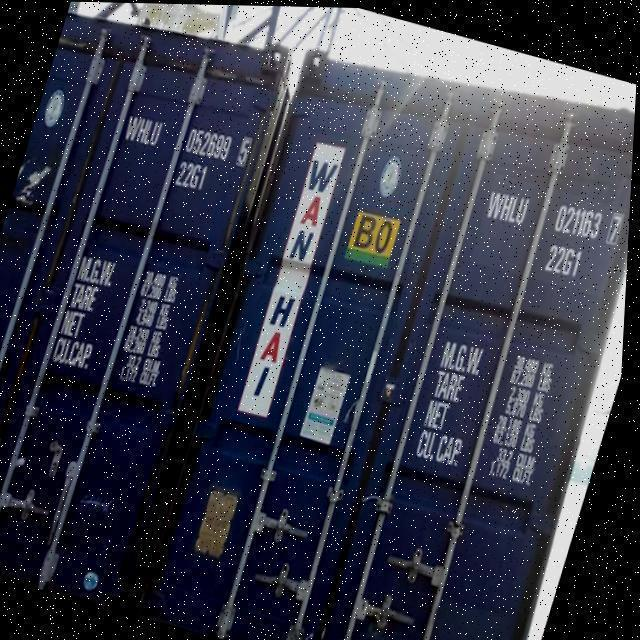ISO: (546, 245, 580, 282)
container_number: (486, 186, 629, 247)
